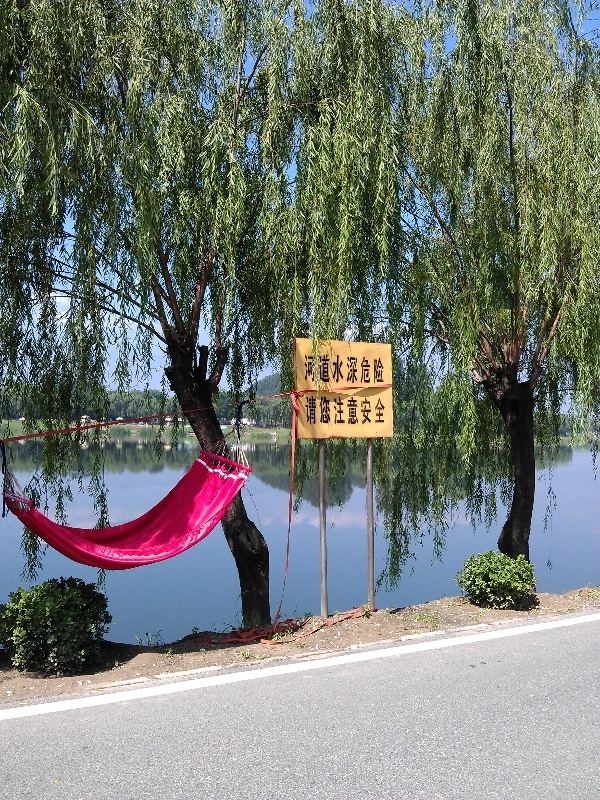text: (305, 354, 320, 385), (321, 354, 336, 385), (337, 354, 352, 385), (353, 354, 368, 385), (369, 354, 384, 385), (305, 396, 320, 426), (321, 396, 336, 426), (337, 396, 352, 426), (353, 396, 368, 426), (369, 396, 384, 426), (385, 354, 386, 385), (385, 396, 386, 426)
